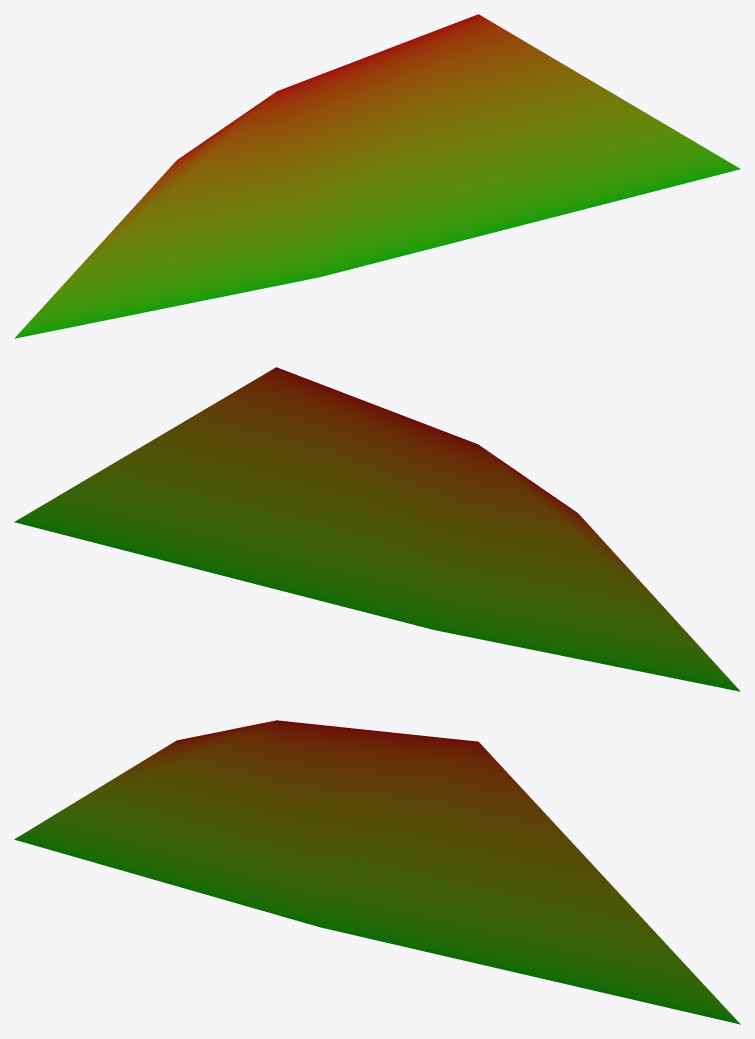
File: Wild Grass_LOD4_Var15_vdilbaiia.fbx
3 renders of one model, top to bottom at view 1: azimuth 30°, elevation 25°; view 2: azimuth 150°, elevation 25°; view 3: azimuth 330°, elevation 25°, orthographic.
Visible parts, largest first — view 1: _ionj_Var15_LOD4; view 2: _ionj_Var15_LOD4; view 3: _ionj_Var15_LOD4.
Part boxes in pixels (box(x1,y1,x2,y2)): _ionj_Var15_LOD4: box(14, 14, 740, 338); _ionj_Var15_LOD4: box(14, 367, 740, 691); _ionj_Var15_LOD4: box(14, 720, 740, 1024).
Bounding box in the file's own units: 84.62 × 24.95 × 2.97e-06.
